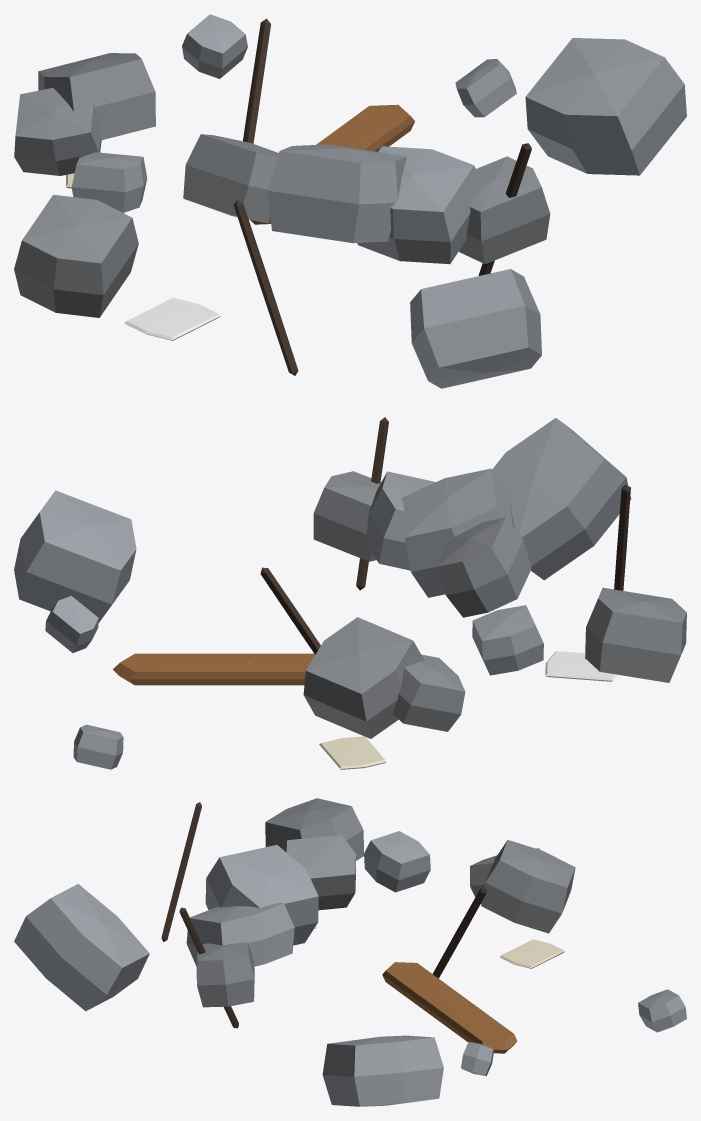
Rendered from s-debris.glb.
The picture shows the model from 3 angles, top to bottom: view 1: azimuth 30°, elevation 25°; view 2: azimuth 150°, elevation 25°; view 3: azimuth 270°, elevation 25°; orthographic projection. The views are drawn at different scales.
Visible parts, largest first — view 1: p; view 2: p; view 3: p.
Boxes of the visible parts, <box> form: p: <box>14,14,686,388</box>; p: <box>14,417,686,769</box>; p: <box>14,798,686,1106</box>.
Size of the model in its own units: 3.72 by 0.9364 by 4.08.
